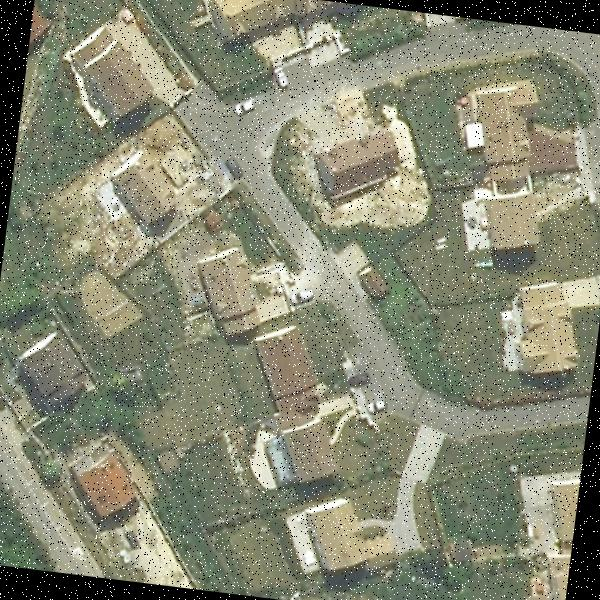Buildings: (463, 83, 585, 253), (242, 324, 350, 471), (269, 494, 410, 576), (504, 287, 590, 371), (195, 240, 266, 332), (72, 442, 144, 524), (318, 132, 400, 196), (72, 34, 151, 100), (200, 0, 316, 44), (118, 150, 176, 219), (26, 339, 82, 398), (28, 3, 53, 53)
